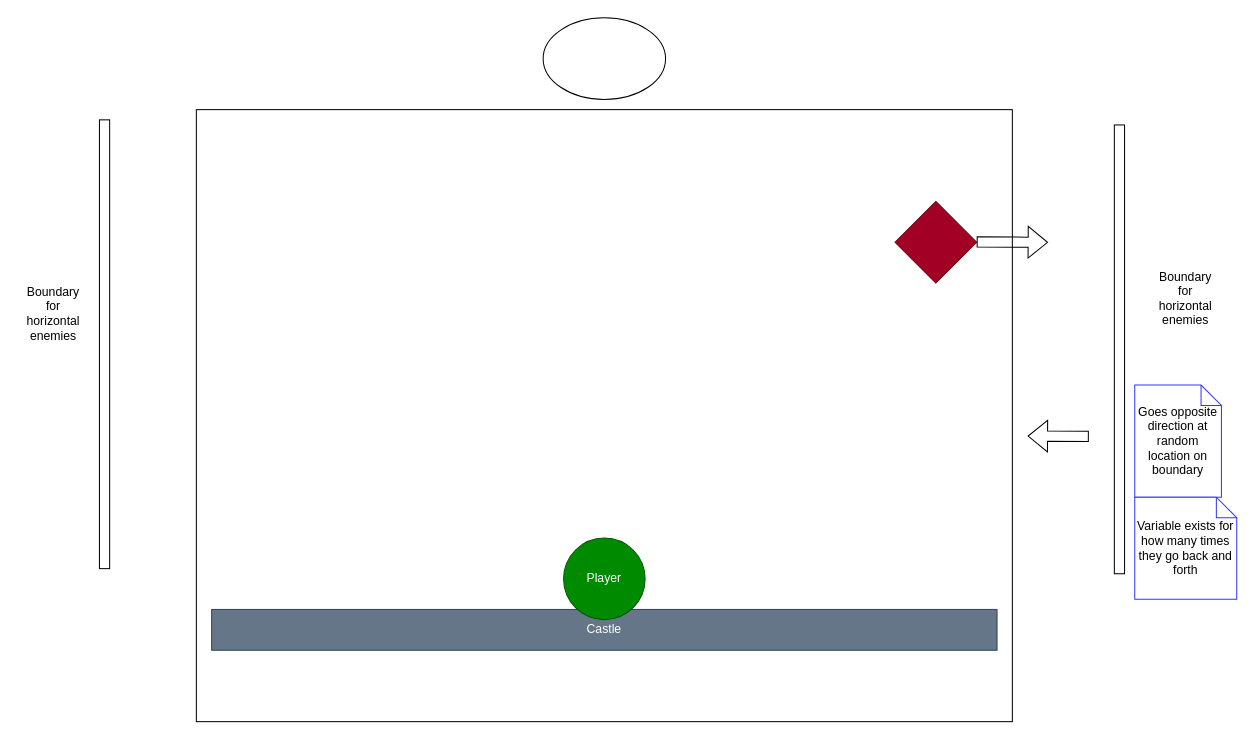
Some shapes in this 1255 by 740 pixel diagram are drawn without their labels. Each missing label, with the centre of its shape:
"Enemy Spawner" goes at [604,58].
"Horizontal Enemy" goes at [935,241].
